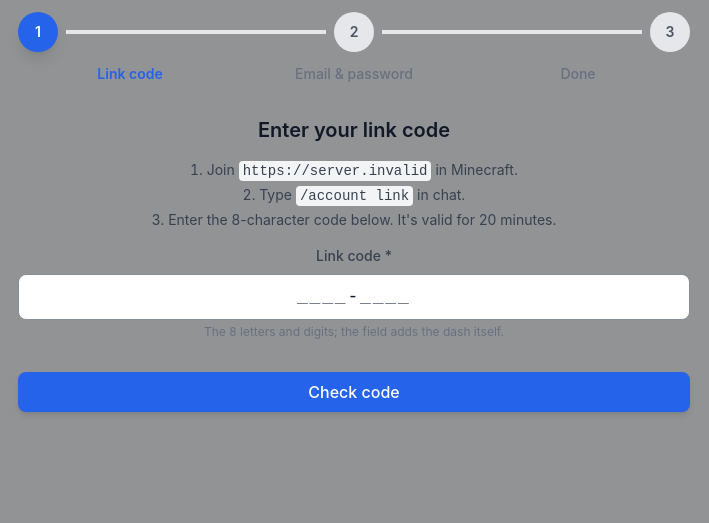
RegisterForm › stays on the code step for an invalid code
The width and height of the screenshot is (709, 523).
Type "ABCD1234" into the field with test id "link-code" at (354, 297), box x1=18 y1=274 x2=690 y2=320
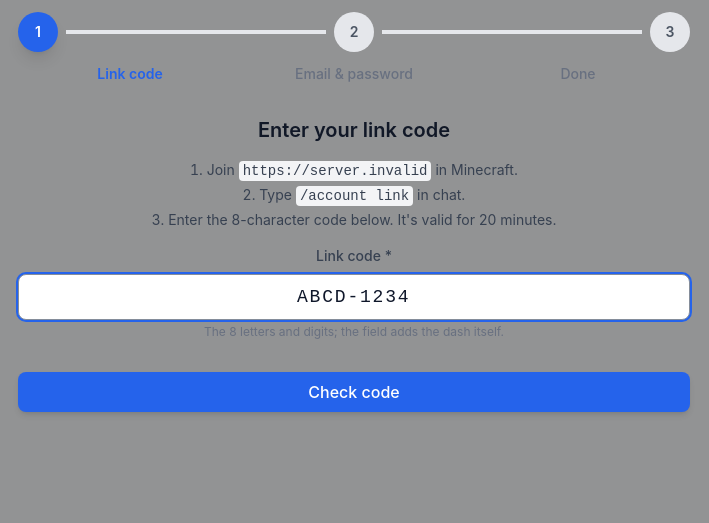
Click the button "Check code" at (354, 392), box x1=18 y1=372 x2=690 y2=412
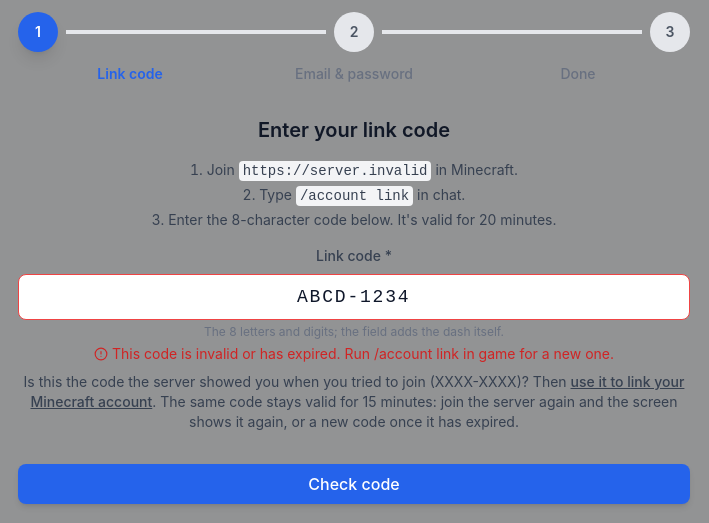
Check: the text "This code is invalid or has expired. Run /account link in game for a new one." is shown, box x1=112 y1=345 x2=614 y2=362
